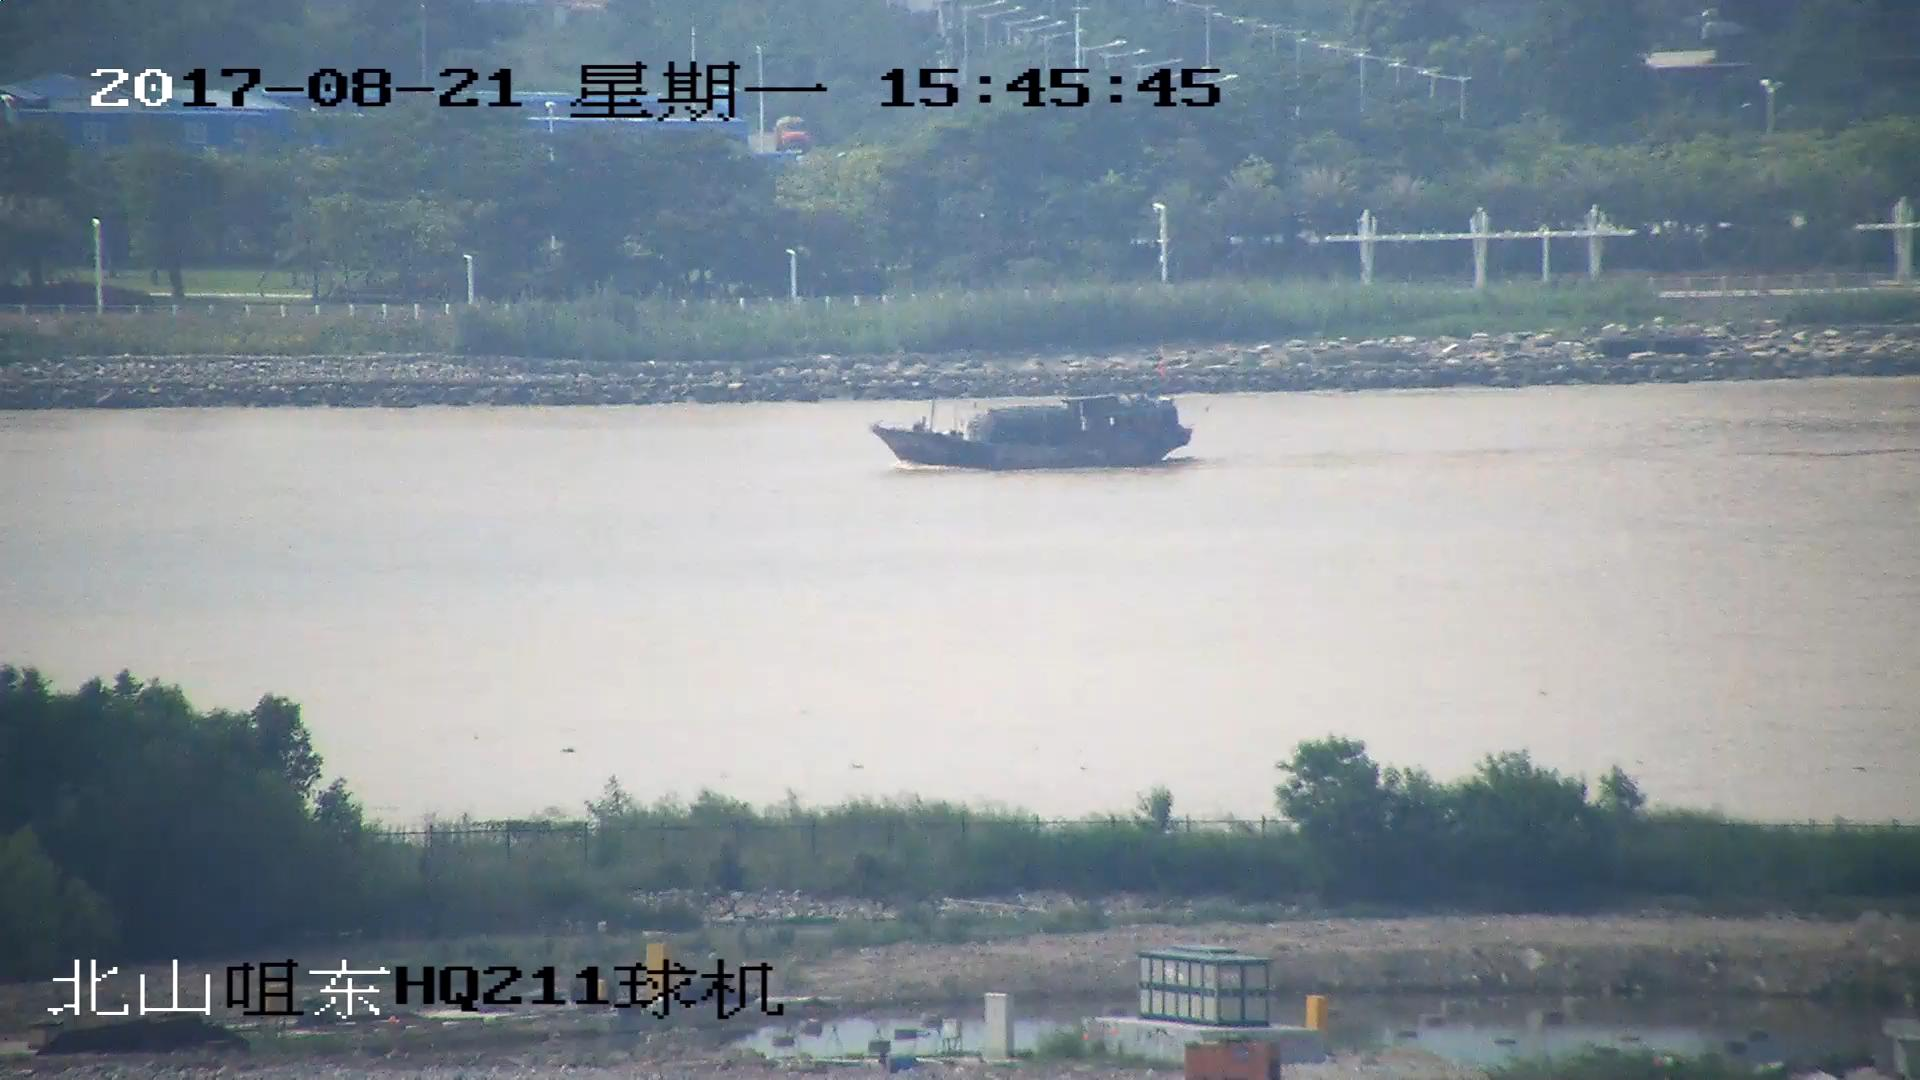fishing boat: (875, 383, 1187, 467)
